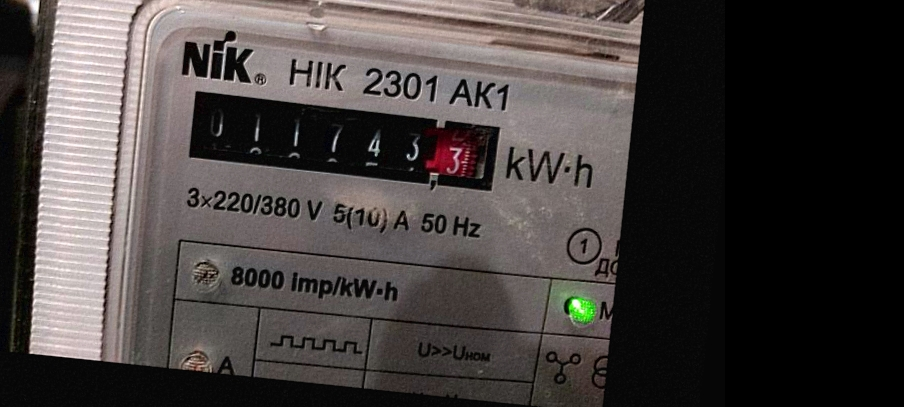0: (205, 103, 227, 141)
1: (287, 113, 306, 148), (251, 109, 264, 143)
3: (400, 128, 423, 164), (443, 144, 464, 179)
4: (364, 124, 384, 159)
7: (325, 119, 346, 154)
screen: (172, 77, 514, 205)
